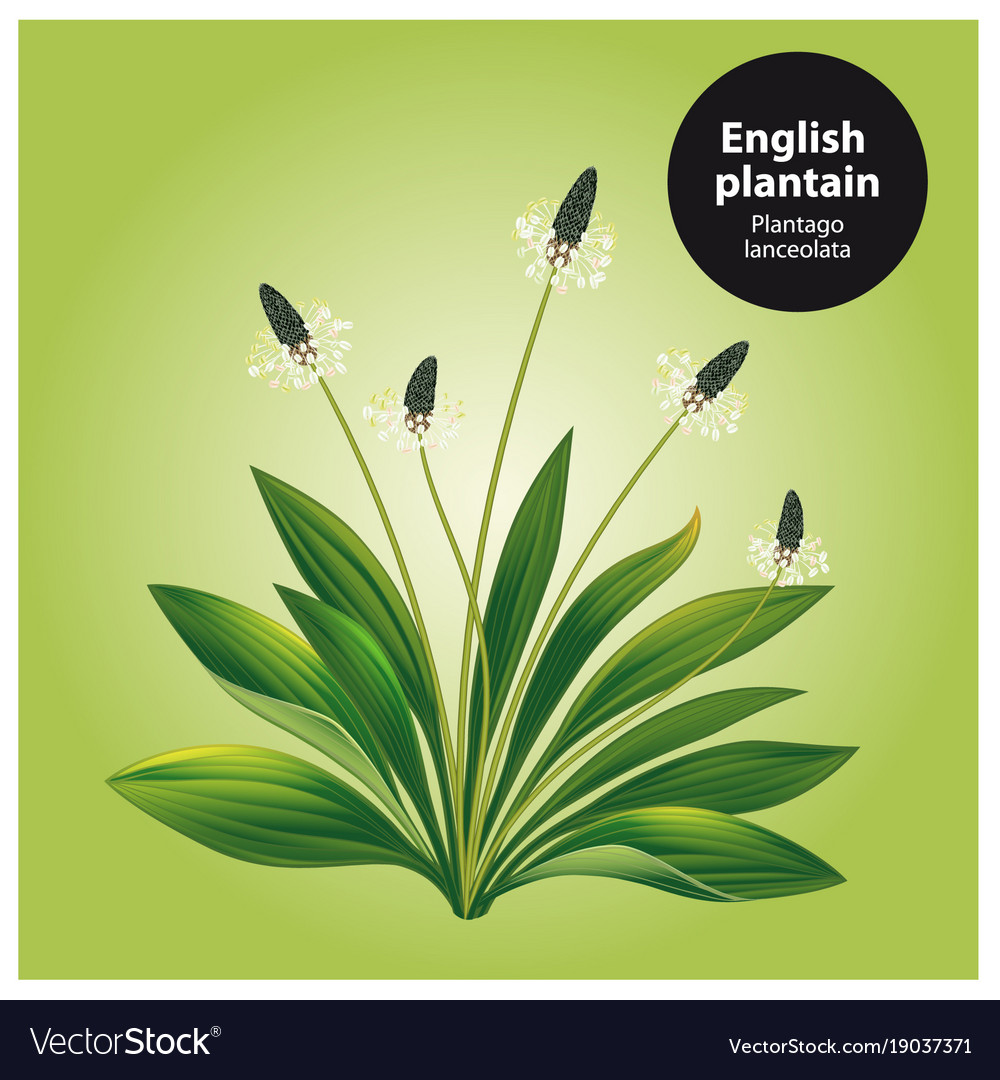buckhorn plantain: (154, 145, 855, 957)
